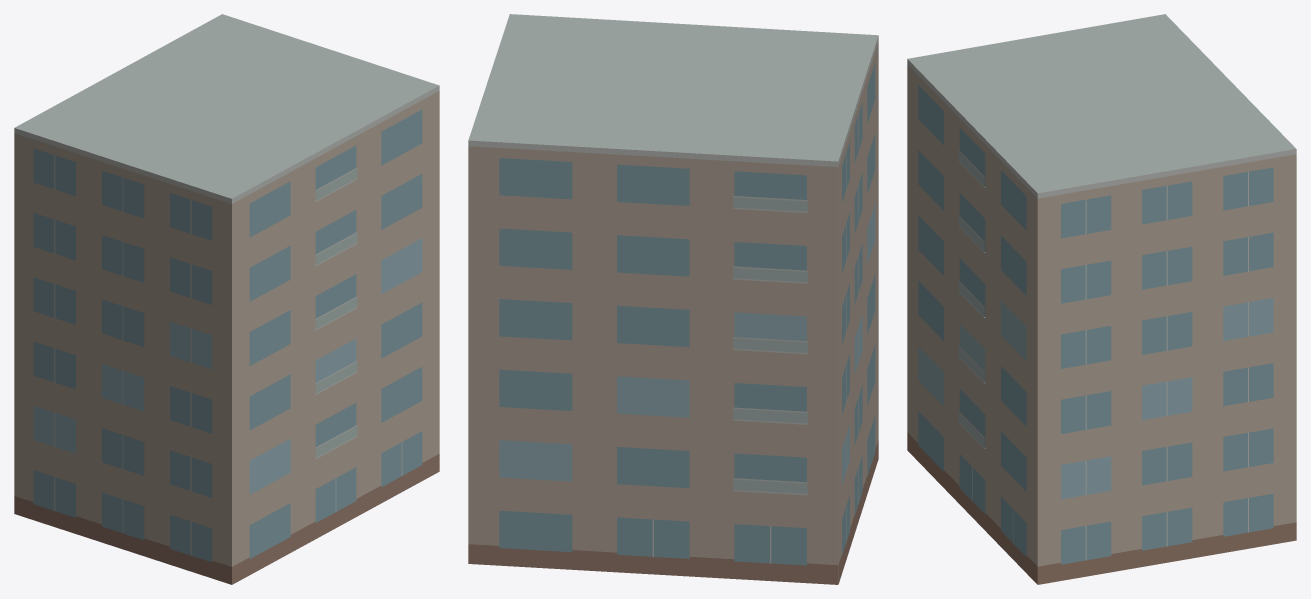
File: survey-upis-32962220.glb
3 renders of one model, left to right at view 1: azimuth 30°, elevation 25°; view 2: azimuth 150°, elevation 25°; view 3: azimuth 270°, elevation 25°, orthographic. The views are drawn at different scales.
Visible parts, largest first — view 1: survey-upis-32962220.tmp; view 2: survey-upis-32962220.tmp; view 3: survey-upis-32962220.tmp.
Part boxes in pixels (x1,y1,x2,y2): survey-upis-32962220.tmp: (14, 14, 439, 584); survey-upis-32962220.tmp: (468, 14, 878, 584); survey-upis-32962220.tmp: (907, 14, 1296, 584).
Size of the model in its own units: 18 by 18.3 by 16.5.
